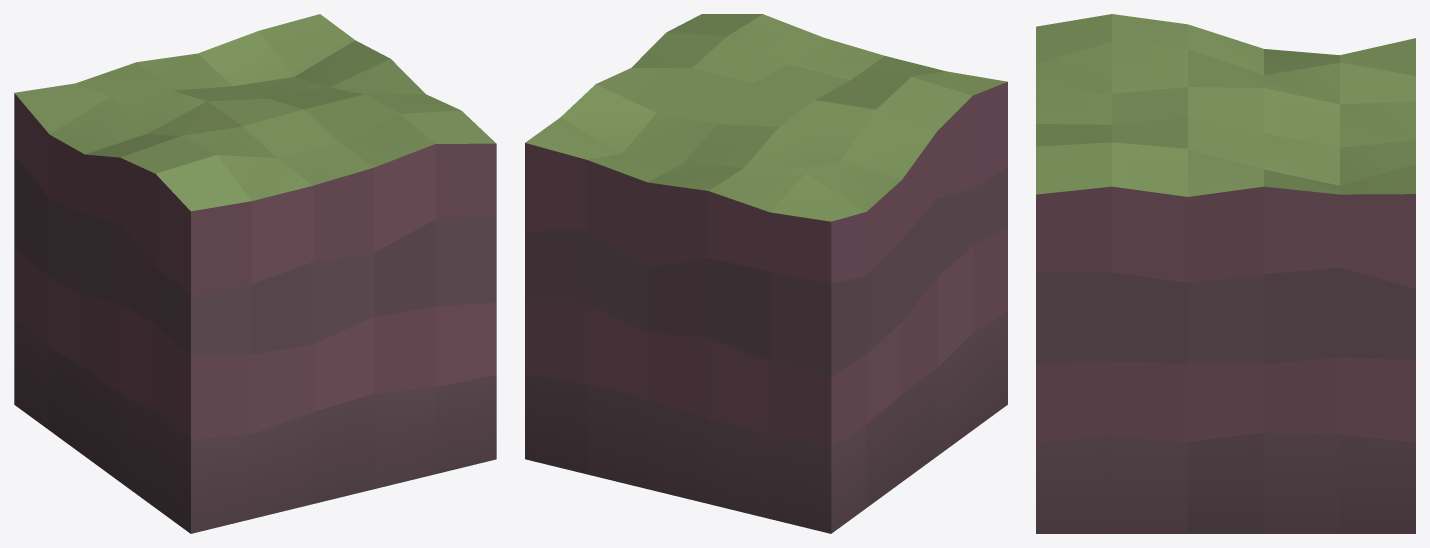
The model's file is roca_relleno_2.glb.
3 views of the same model, side by side, from view 1: azimuth 30°, elevation 25°; view 2: azimuth 150°, elevation 25°; view 3: azimuth 270°, elevation 25° (orthographic). The views are drawn at different scales.
Parts seen in each view (by area): view 1: propforge-cuartos-roca_relleno; view 2: propforge-cuartos-roca_relleno; view 3: propforge-cuartos-roca_relleno.
Part boxes in pixels (x1,y1,x2,y2): propforge-cuartos-roca_relleno: (14,14,496,533); propforge-cuartos-roca_relleno: (525,14,1007,533); propforge-cuartos-roca_relleno: (1036,14,1415,533).
Bounding box in the file's own units: 1 × 1.06 × 1.
